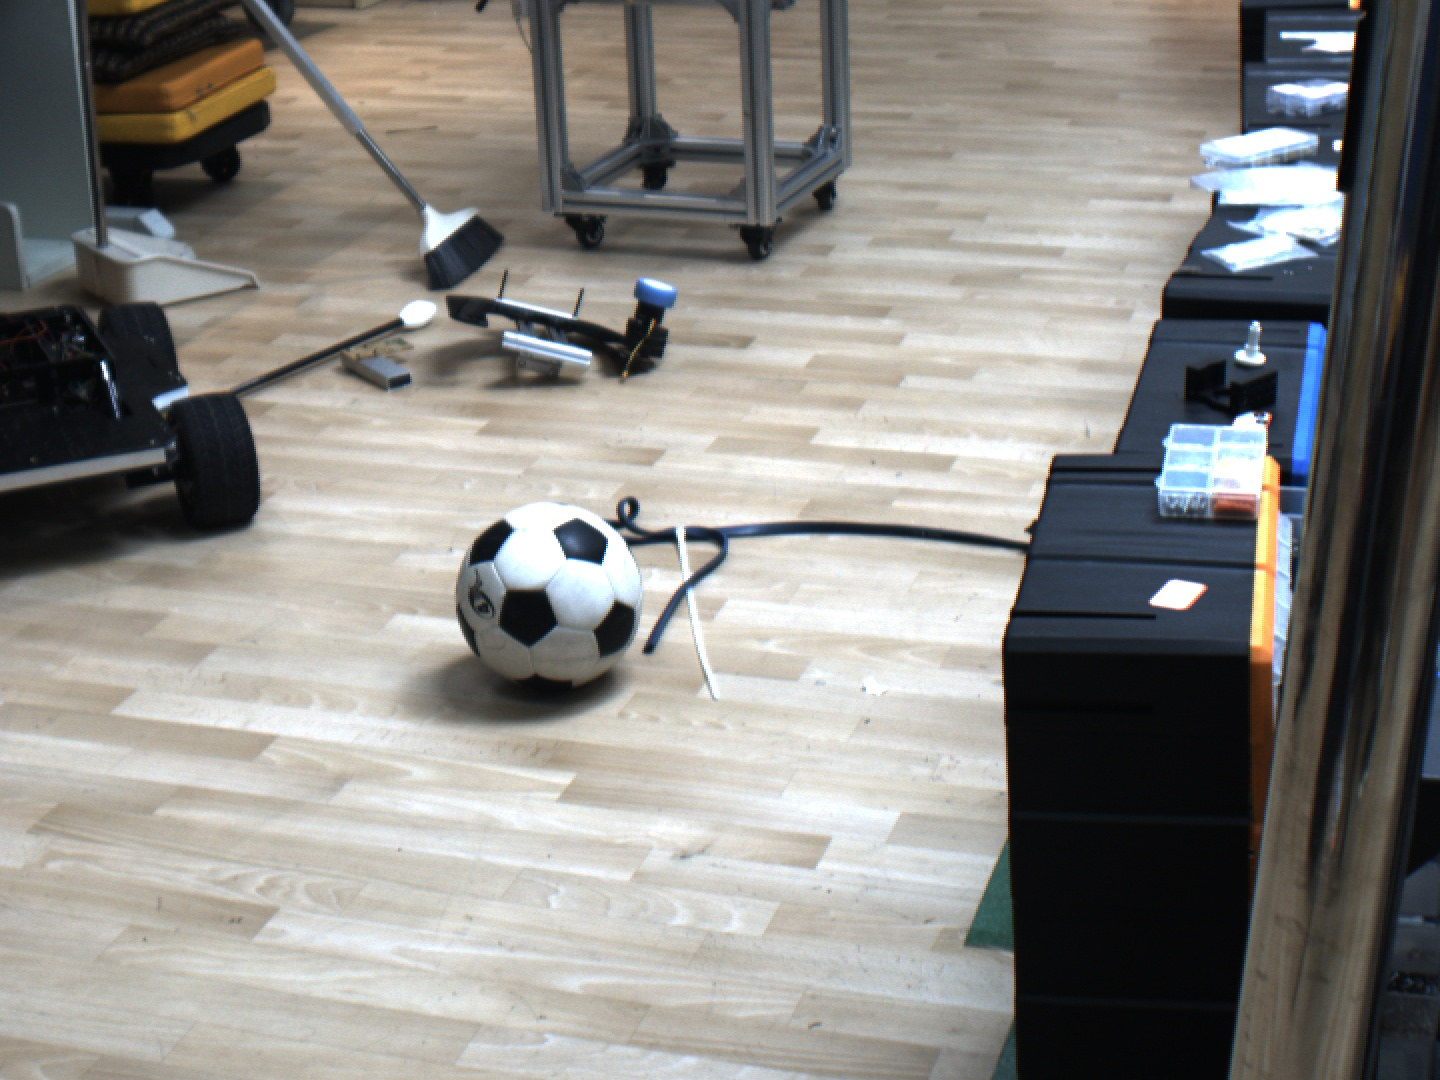ball: (439, 503, 664, 694)
